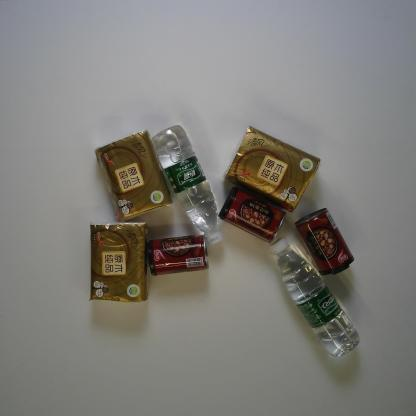Canned Food: (294, 205, 354, 277), (218, 188, 288, 246), (149, 233, 211, 277)
Drink: (268, 238, 363, 361), (152, 123, 226, 249)
Tissue: (222, 124, 323, 215), (93, 127, 175, 224), (87, 222, 149, 305)
